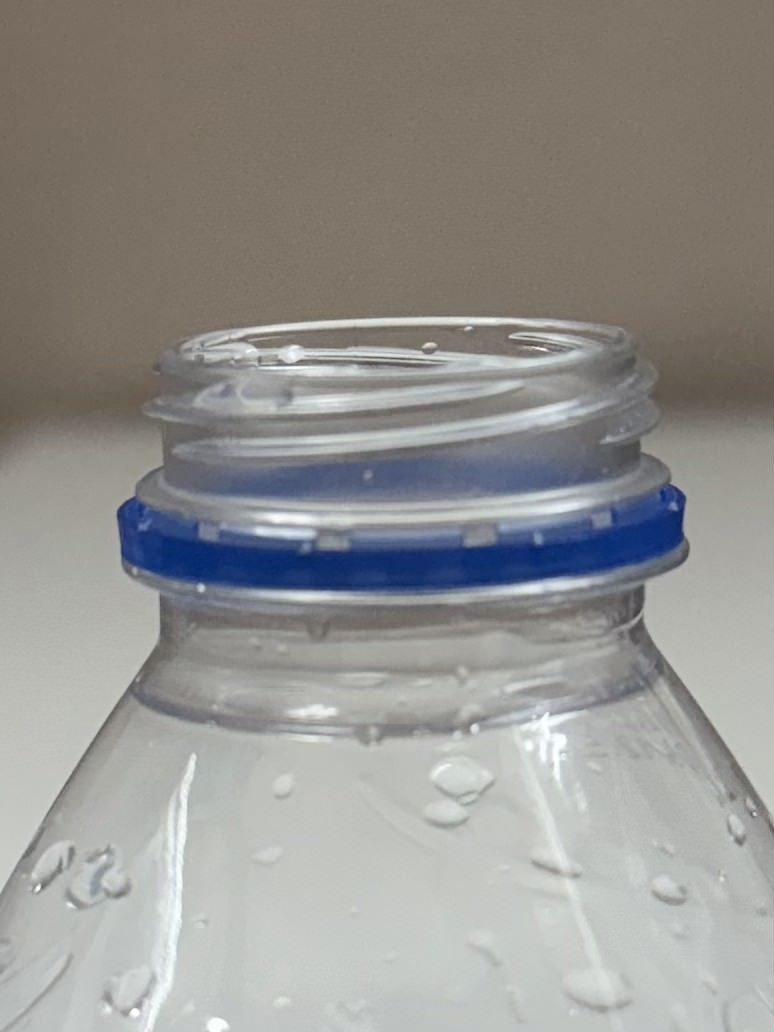no_cap: (115, 309, 696, 633)
